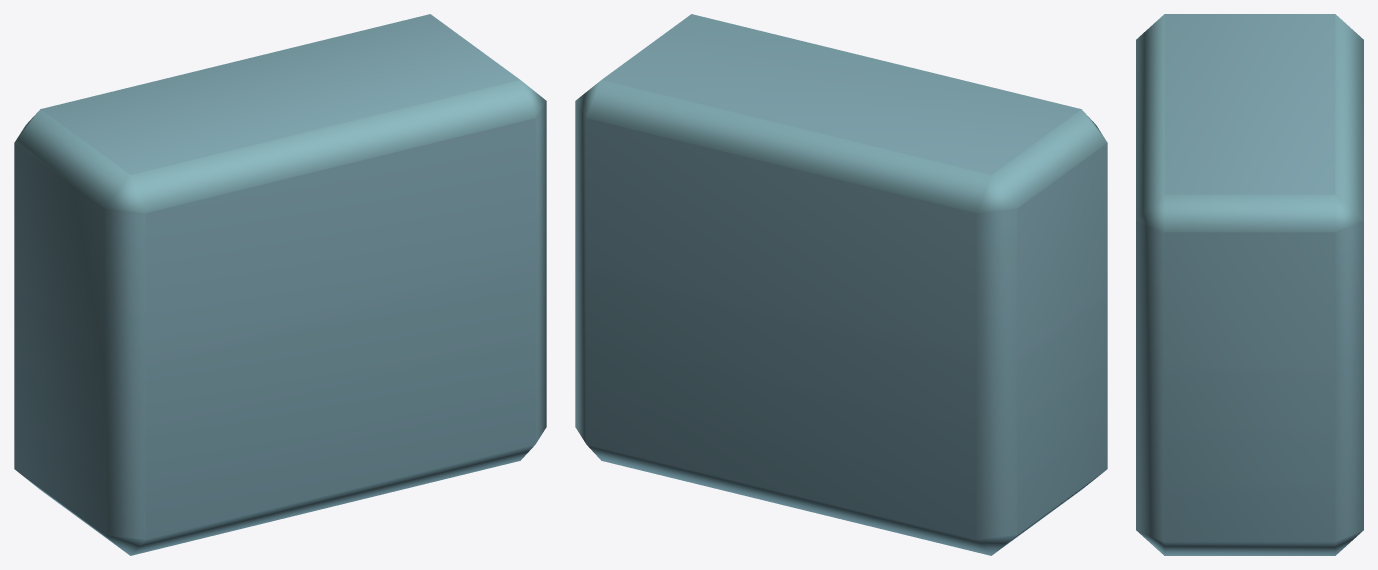
The model's file is cube_02_hue_2.fbx.
3 renders of one model, left to right at view 1: azimuth 30°, elevation 25°; view 2: azimuth 150°, elevation 25°; view 3: azimuth 270°, elevation 25°, orthographic. The views are drawn at different scales.
Visible parts, largest first — view 1: cube_02_hue_2; view 2: cube_02_hue_2; view 3: cube_02_hue_2.
Boxes of the visible parts, left/top/right/bottom form: cube_02_hue_2: left=14, top=14, right=546, bottom=555; cube_02_hue_2: left=575, top=14, right=1107, bottom=555; cube_02_hue_2: left=1136, top=14, right=1363, bottom=555.
Size of the model in its own units: 53.12 by 43.75 by 25.
Materials: 1 (1 with a texture image).
